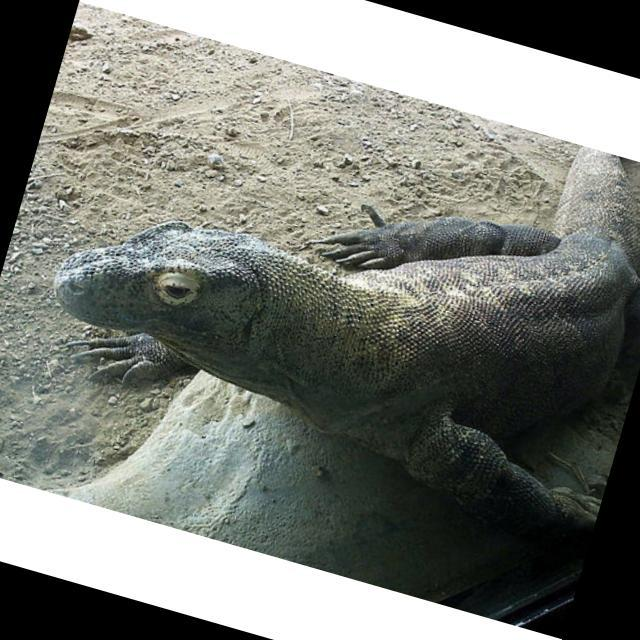KomodoDragon: (13, 15, 640, 570)
